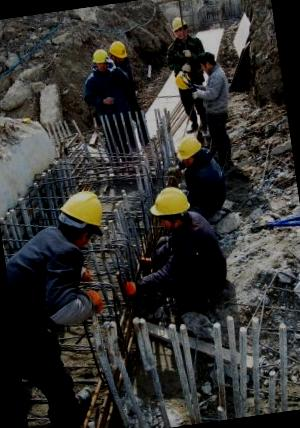no_helmet: (196, 48, 220, 72)
